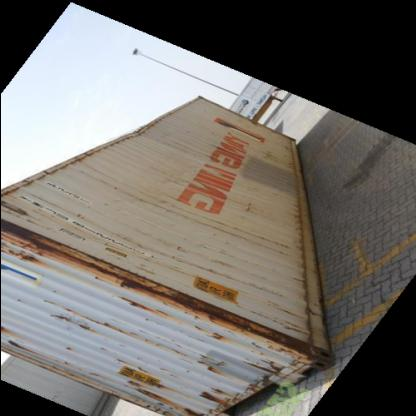Damage: (1, 214, 154, 298), (168, 296, 313, 361), (36, 310, 113, 340), (124, 110, 154, 151), (192, 384, 228, 408), (5, 336, 33, 361)
